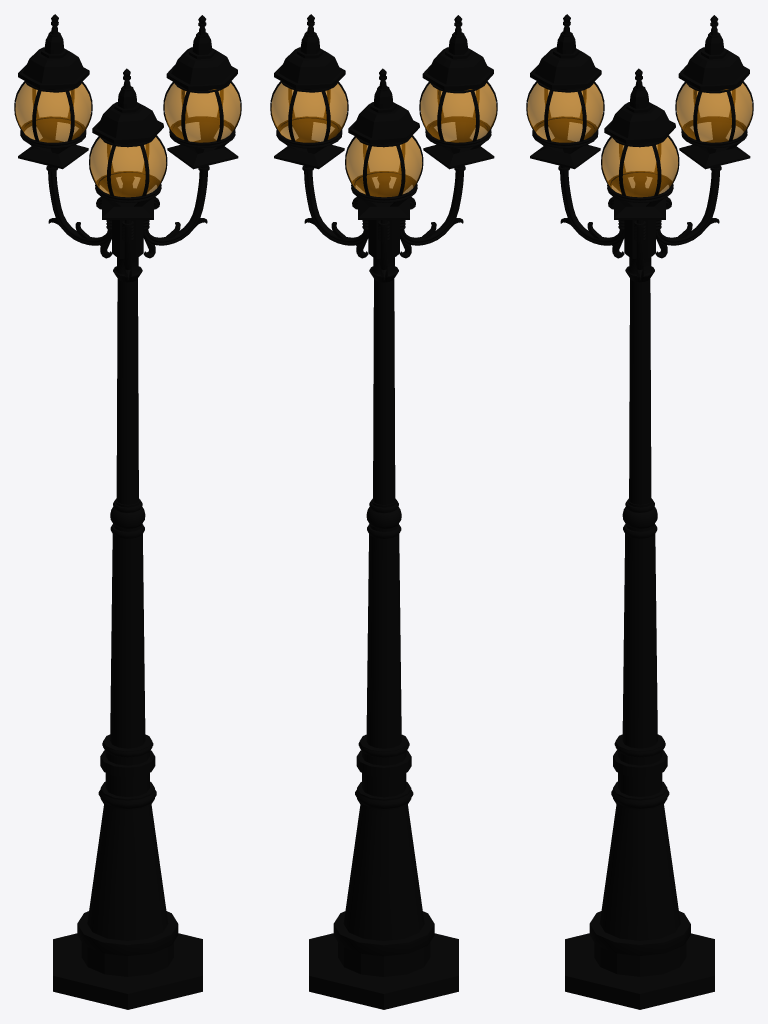
Rendered from street_light.dae.
3 views of the same model, side by side, from view 1: azimuth 30°, elevation 25°; view 2: azimuth 150°, elevation 25°; view 3: azimuth 270°, elevation 25° (orthographic).
Parts seen in each view (by area): view 1: street_lightFBXASC058street_light1, street_lightFBXASC058lamp_1, street_lightFBXASC058street_lightFBXASC058lamp_2, street_lightFBXASC058street_lightFBXASC058lamp_3, street_lightFBXASC058street_lightFBXASC058pSphere1_ncl1_1, street_lightFBXASC058street_lightFBXASC058pSphere1_ncl1_2, street_lightFBXASC058street_lightFBXASC058pSphere1; view 2: street_lightFBXASC058street_light1, street_lightFBXASC058street_lightFBXASC058lamp_3, street_lightFBXASC058lamp_1, street_lightFBXASC058street_lightFBXASC058lamp_2, street_lightFBXASC058street_lightFBXASC058pSphere1, street_lightFBXASC058street_lightFBXASC058pSphere1_ncl1_1, street_lightFBXASC058street_lightFBXASC058pSphere1_ncl1_2; view 3: street_lightFBXASC058street_light1, street_lightFBXASC058street_lightFBXASC058lamp_2, street_lightFBXASC058street_lightFBXASC058lamp_3, street_lightFBXASC058lamp_1, street_lightFBXASC058street_lightFBXASC058pSphere1_ncl1_2, street_lightFBXASC058street_lightFBXASC058pSphere1, street_lightFBXASC058street_lightFBXASC058pSphere1_ncl1_1.
Boxes of the visible parts, x1,y1,x2,y2 form: street_lightFBXASC058street_light1: [53, 176, 202, 1009]; street_lightFBXASC058lamp_1: [143, 15, 241, 258]; street_lightFBXASC058street_lightFBXASC058lamp_2: [14, 14, 112, 258]; street_lightFBXASC058street_lightFBXASC058lamp_3: [89, 68, 167, 280]; street_lightFBXASC058street_lightFBXASC058pSphere1_ncl1_1: [15, 83, 91, 142]; street_lightFBXASC058street_lightFBXASC058pSphere1_ncl1_2: [90, 135, 166, 197]; street_lightFBXASC058street_lightFBXASC058pSphere1: [164, 83, 240, 142]; street_lightFBXASC058street_light1: [309, 176, 458, 1009]; street_lightFBXASC058street_lightFBXASC058lamp_3: [399, 15, 497, 258]; street_lightFBXASC058lamp_1: [270, 14, 368, 258]; street_lightFBXASC058street_lightFBXASC058lamp_2: [345, 68, 423, 280]; street_lightFBXASC058street_lightFBXASC058pSphere1: [271, 83, 347, 142]; street_lightFBXASC058street_lightFBXASC058pSphere1_ncl1_1: [346, 135, 422, 197]; street_lightFBXASC058street_lightFBXASC058pSphere1_ncl1_2: [420, 83, 496, 142]; street_lightFBXASC058street_light1: [565, 176, 714, 1009]; street_lightFBXASC058street_lightFBXASC058lamp_2: [655, 15, 753, 258]; street_lightFBXASC058street_lightFBXASC058lamp_3: [526, 14, 624, 258]; street_lightFBXASC058lamp_1: [601, 68, 679, 280]; street_lightFBXASC058street_lightFBXASC058pSphere1_ncl1_2: [527, 83, 603, 142]; street_lightFBXASC058street_lightFBXASC058pSphere1: [602, 135, 678, 197]; street_lightFBXASC058street_lightFBXASC058pSphere1_ncl1_1: [676, 83, 752, 142].
Size of the model in its own units: 4.52 by 22.27 by 4.88.
